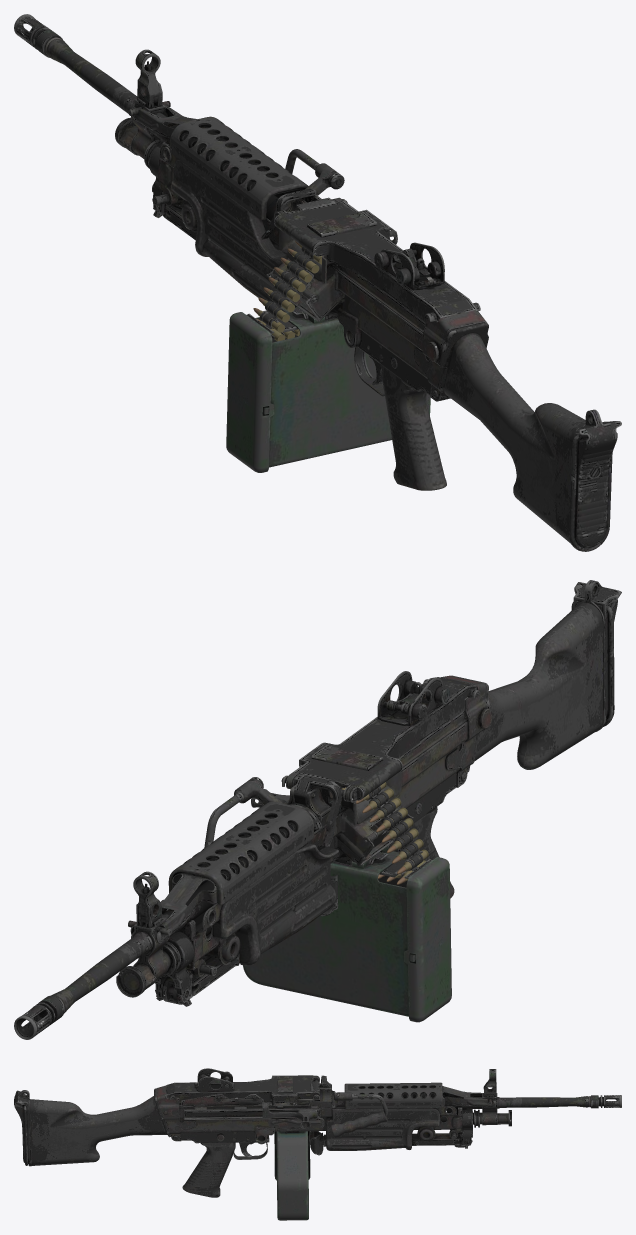
3 renders of one model, top to bottom at view 1: azimuth 30°, elevation 25°; view 2: azimuth 150°, elevation 25°; view 3: azimuth 270°, elevation 25°, orthographic. The views are drawn at different scales.
Parts seen in each view (by area): view 1: v_m249_R; view 2: v_m249_R; view 3: v_m249_R.
Boxes of the visible parts, x1,y1,x2,y2 form: v_m249_R: (14,14,621,551); v_m249_R: (14,580,621,1039); v_m249_R: (14,1068,621,1220).
Bounding box in the file's own units: 0.219 × 0.2944 × 1.21.
Materials: 1 (1 with a texture image).
